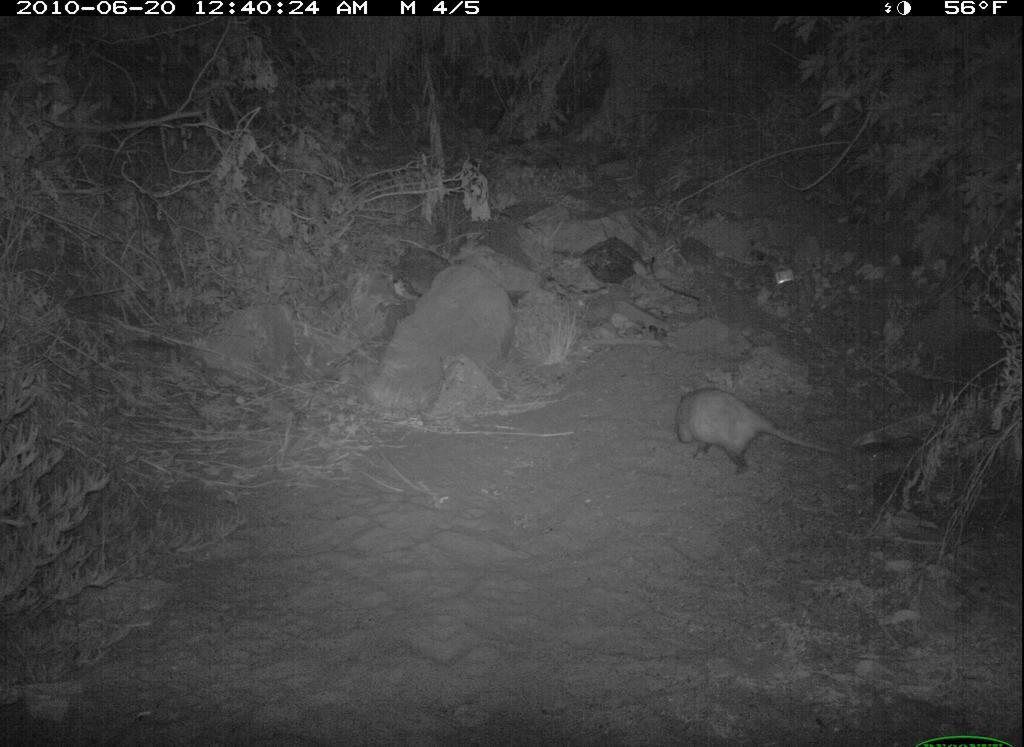opossum: (662, 363, 885, 500)
